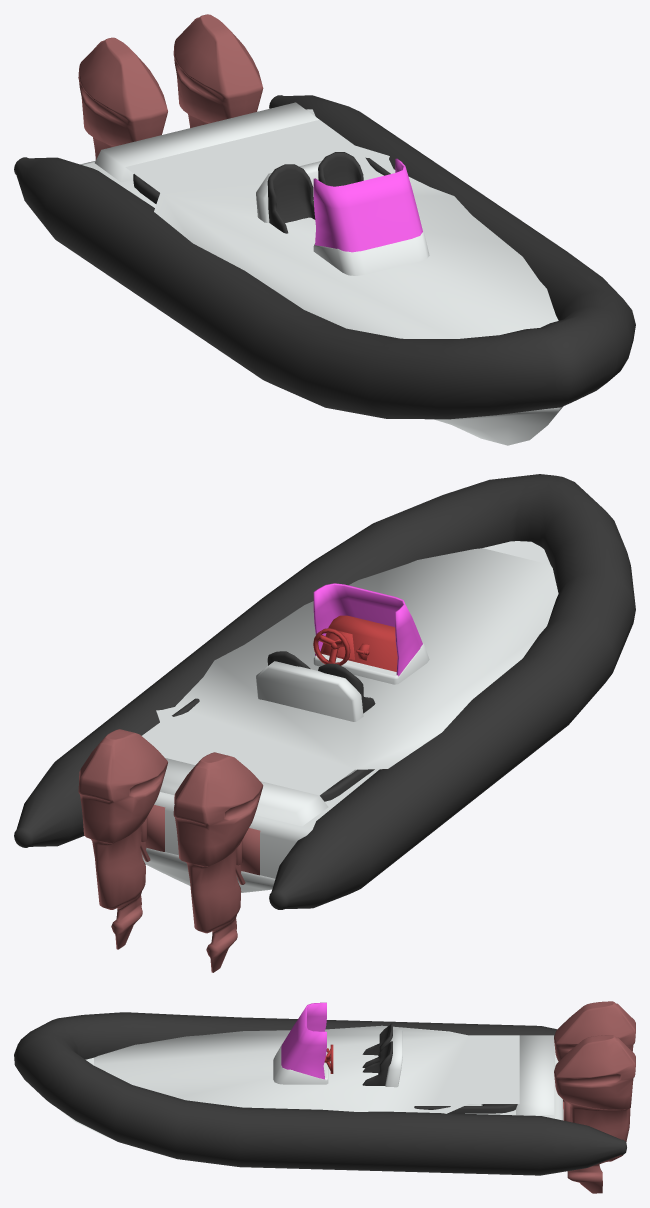
The model's file is PowerBoatDepthMask.fbx.
3 views of the same model, one above another, from view 1: azimuth 30°, elevation 25°; view 2: azimuth 150°, elevation 25°; view 3: azimuth 270°, elevation 25° (orthographic). The views are drawn at different scales.
Visible parts, largest first — view 1: sm_soft_parts, sm_hard_parts, sm_engines, sm_window; view 2: sm_soft_parts, sm_hard_parts, sm_engines, sm_window, sm_extras; view 3: sm_soft_parts, sm_hard_parts, sm_engines, sm_window.
Boxes of the visible parts, x1,y1,x2,y2 form: sm_soft_parts: (14,95,635,419); sm_hard_parts: (80,102,563,445); sm_engines: (78,14,263,159); sm_window: (313,158,422,252); sm_soft_parts: (14,474,635,909); sm_hard_parts: (141,541,558,892); sm_engines: (78,729,263,972); sm_window: (313,583,422,676); sm_extras: (313,615,397,671); sm_soft_parts: (14,1012,626,1175); sm_hard_parts: (60,1025,563,1137); sm_engines: (554,1001,635,1193); sm_window: (281,1002,326,1079).
Bounding box in the file's own units: 429 × 277 × 978.
